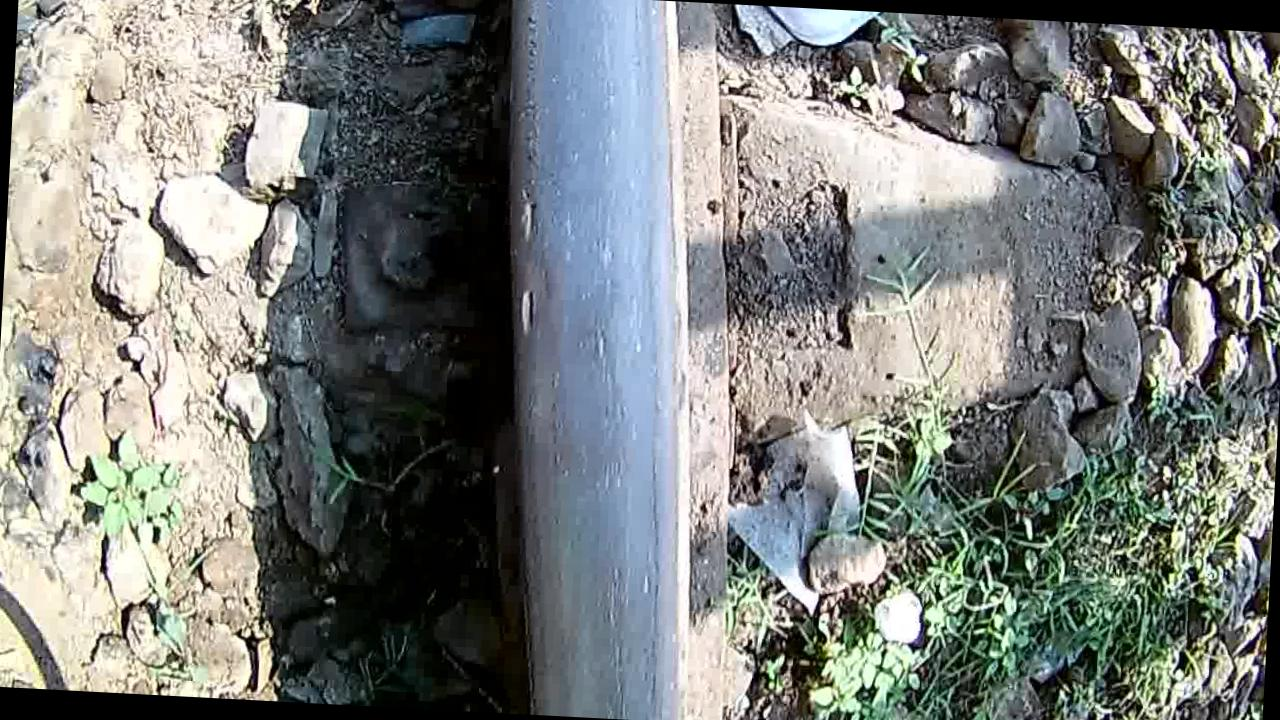crack: (498, 133, 578, 365)
